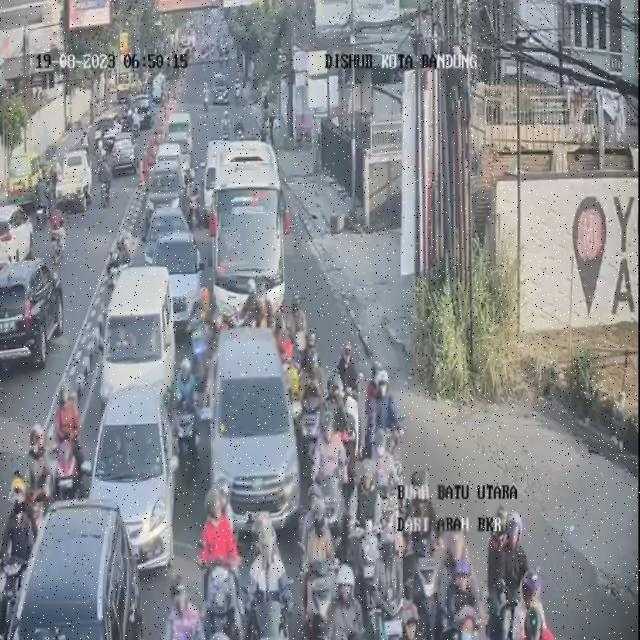bus: (208, 139, 288, 328)
cars: (5, 496, 140, 638), (211, 324, 303, 523), (92, 386, 178, 578), (101, 264, 181, 414), (150, 209, 206, 327), (150, 158, 188, 220), (150, 146, 186, 196), (166, 111, 196, 147), (208, 68, 227, 108)
motorcycle: (198, 479, 245, 640), (403, 474, 447, 639), (492, 504, 537, 640), (246, 501, 290, 638), (316, 422, 354, 567), (308, 500, 342, 636), (0, 478, 34, 609), (294, 331, 324, 475), (447, 528, 484, 640), (335, 339, 364, 466), (365, 364, 397, 474), (54, 382, 84, 498), (324, 564, 370, 638), (19, 423, 53, 521), (172, 360, 201, 471), (183, 291, 216, 384), (161, 571, 204, 639), (287, 290, 311, 376), (126, 195, 150, 261), (381, 608, 429, 640), (239, 285, 267, 336), (112, 215, 134, 278), (185, 168, 203, 233), (237, 112, 248, 144)
